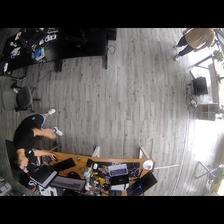normal: (10, 107, 65, 173), (172, 28, 215, 59)
